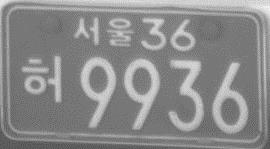3: (167, 57, 204, 132), (140, 15, 165, 52)
6: (211, 60, 250, 135), (169, 17, 196, 51)
9: (123, 57, 162, 133), (79, 57, 118, 131)
서울_O: (73, 15, 134, 46)
허: (20, 55, 64, 104)
